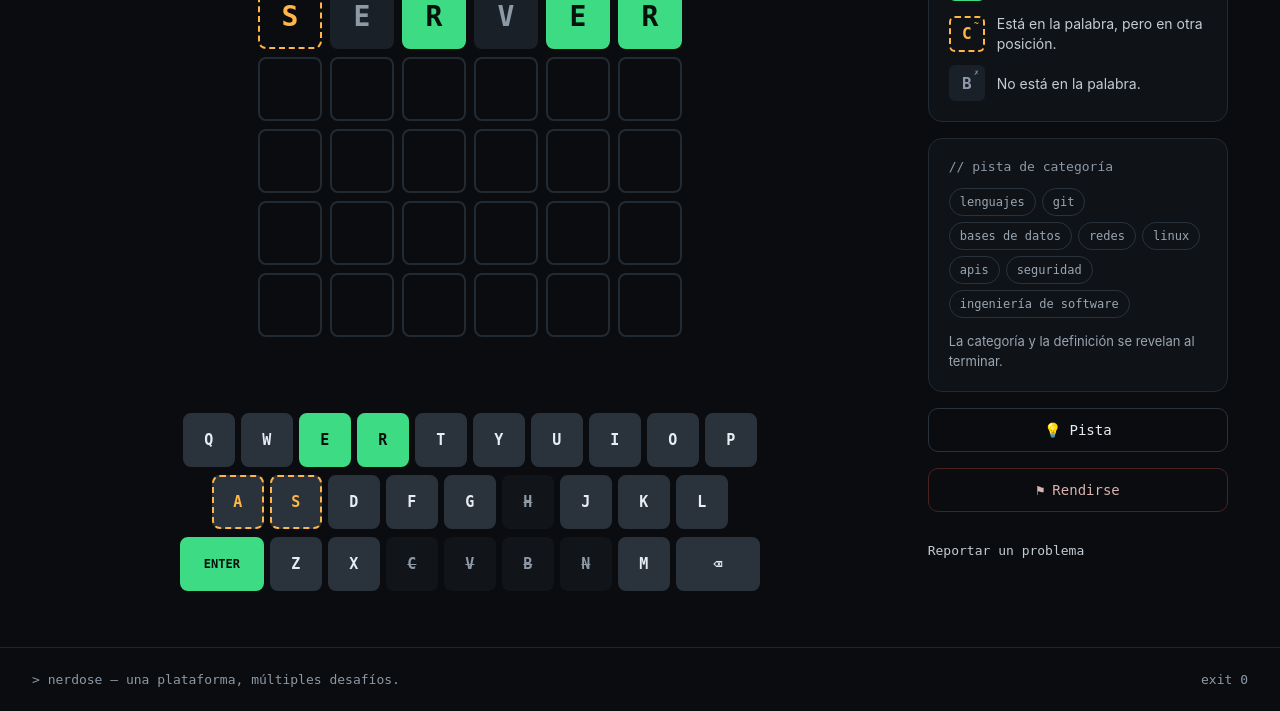
Scenario: formulario › TS-23: Escape y el ícono cierran sin request
(page scrolled)
Click the button "Reportar un problema": (1078, 550) [928,528,1228,572]
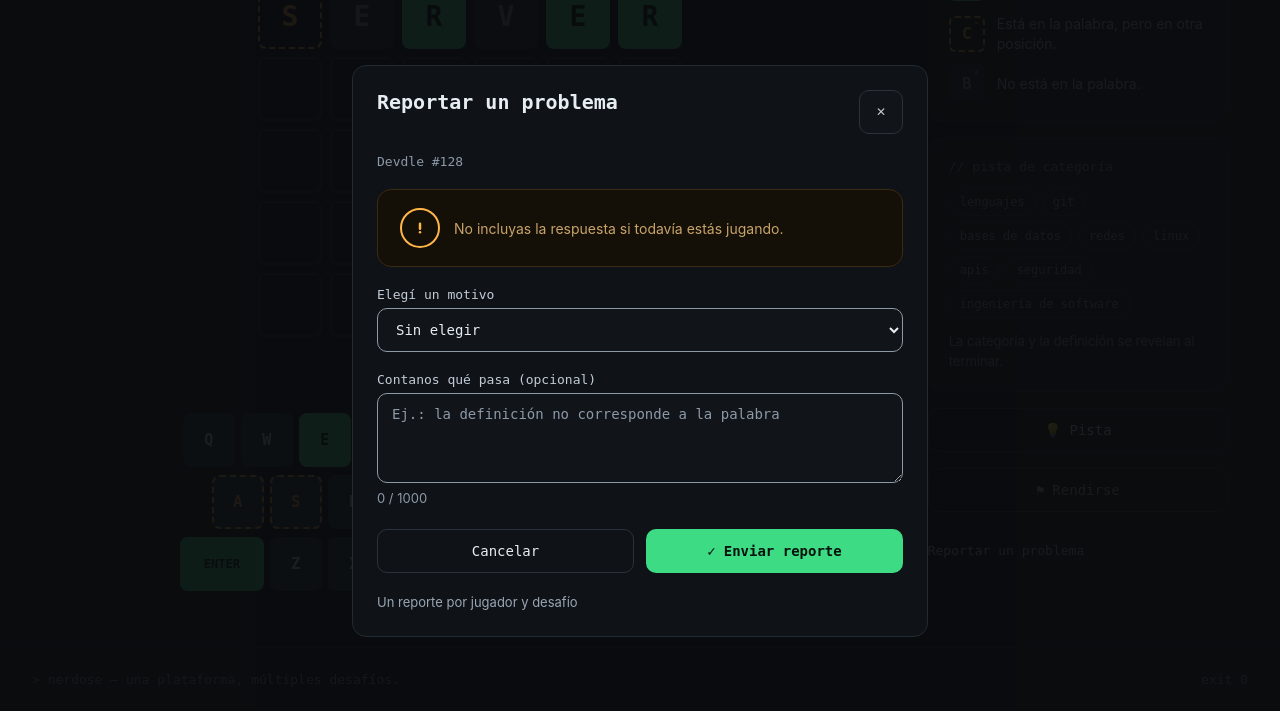
Press Escape
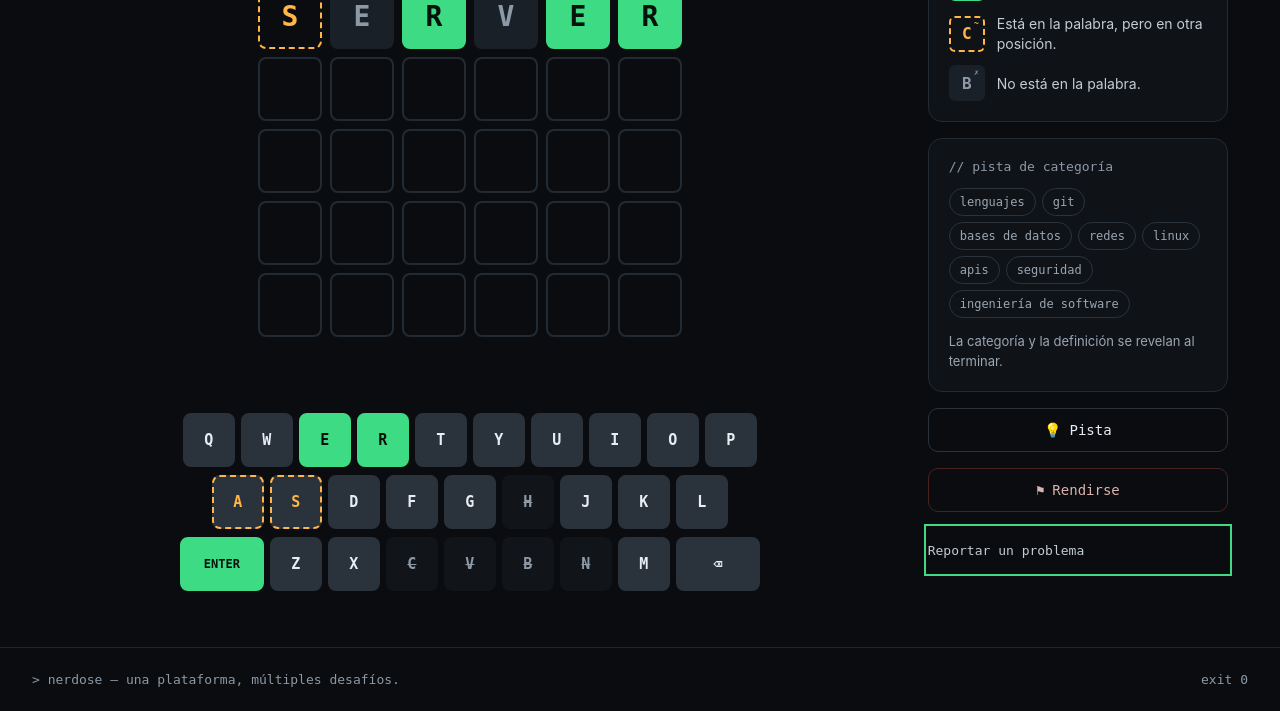
Now the dialog is gone
Click the button "Reportar un problema": (1078, 550) [928,528,1228,572]
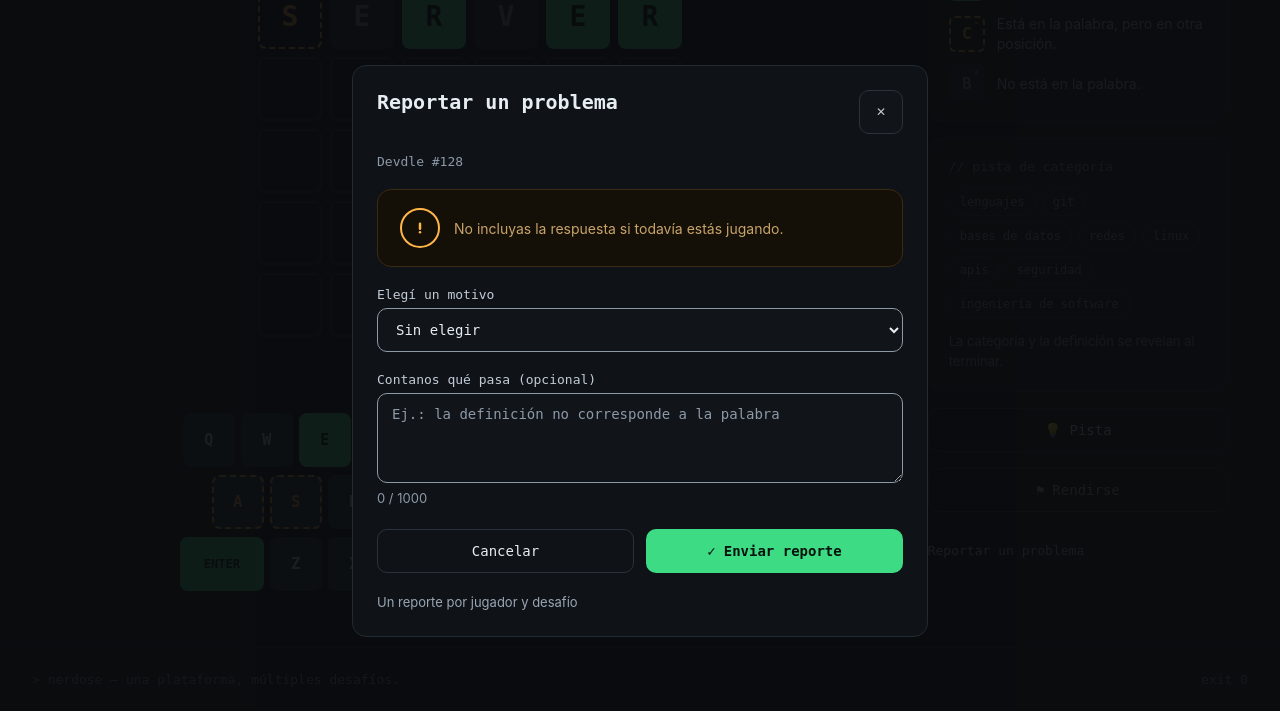
Click the button named "Cerrar": (881, 112) [859,90,903,134]
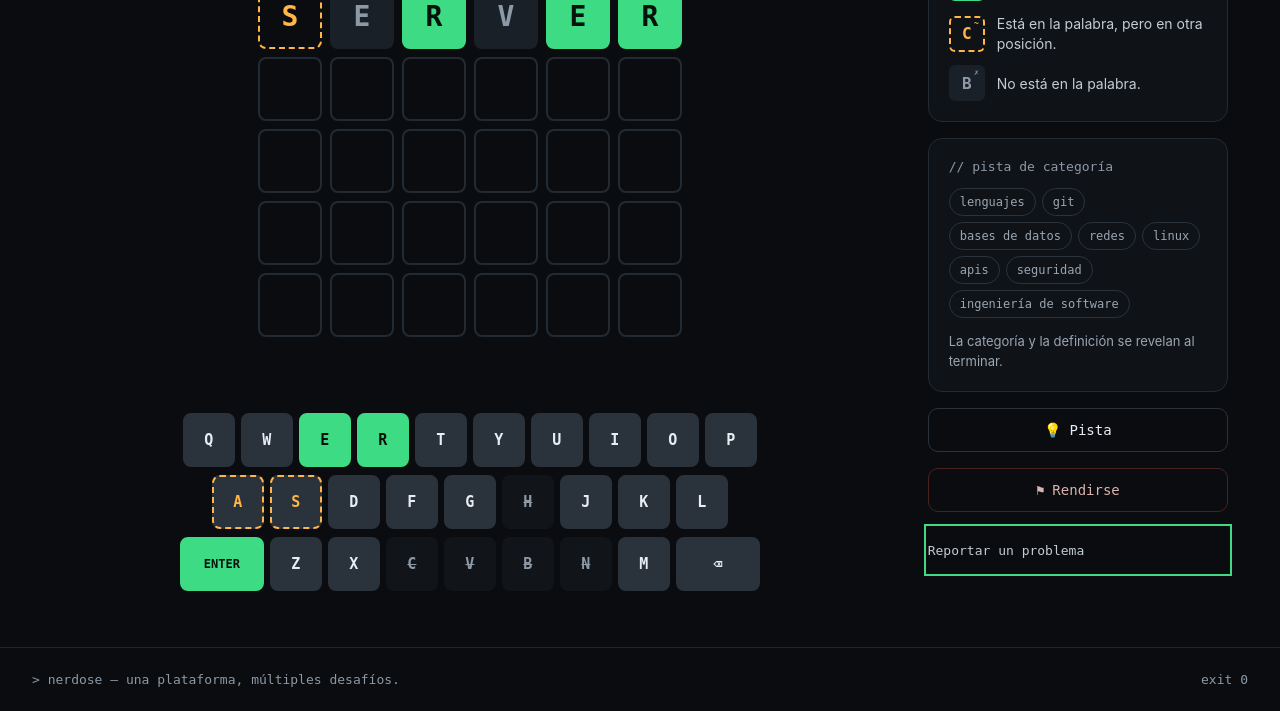
Now the dialog is gone
